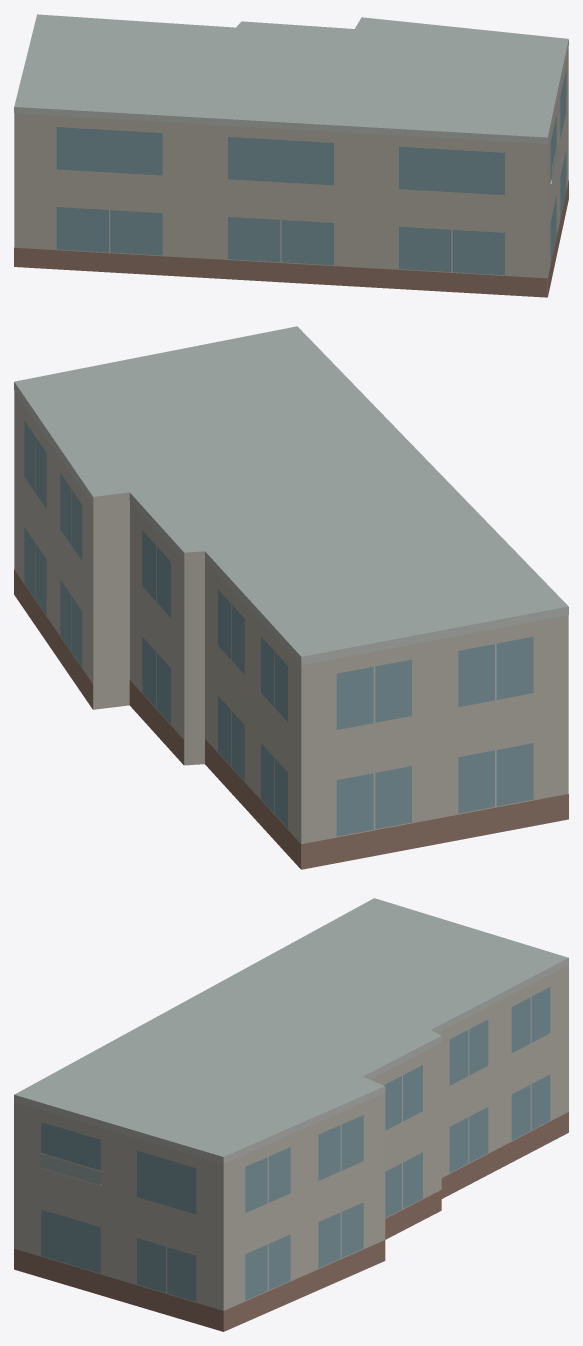
The model's file is survey-upis-32660563.glb.
The picture shows the model from 3 angles, top to bottom: view 1: azimuth 30°, elevation 25°; view 2: azimuth 150°, elevation 25°; view 3: azimuth 270°, elevation 25°; orthographic projection. The views are drawn at different scales.
Parts seen in each view (by area): view 1: survey-upis-32660563.tmp; view 2: survey-upis-32660563.tmp; view 3: survey-upis-32660563.tmp.
Boxes of the visible parts, bbox=[...] form: survey-upis-32660563.tmp: bbox=[14, 14, 568, 297]; survey-upis-32660563.tmp: bbox=[14, 326, 568, 869]; survey-upis-32660563.tmp: bbox=[14, 898, 568, 1331].
Bounding box in the file's own units: 19.39 × 6.1 × 17.55.
